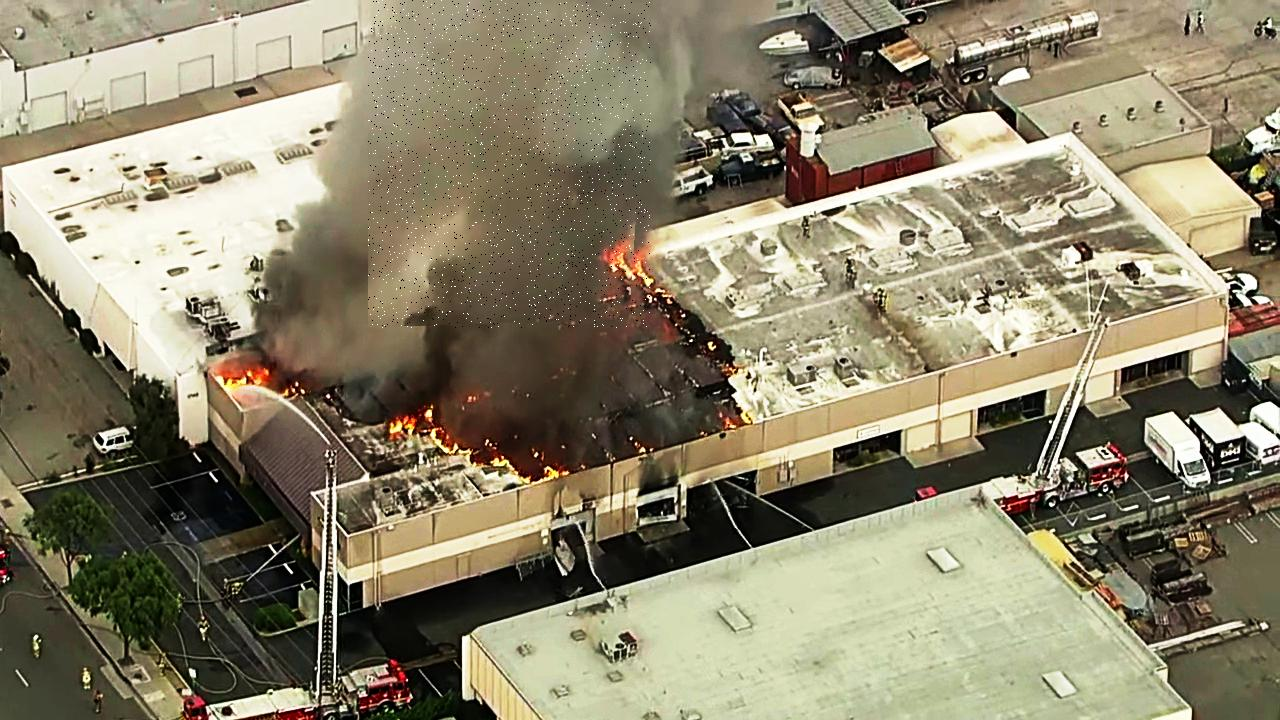smoke: (368, 0, 651, 328)
